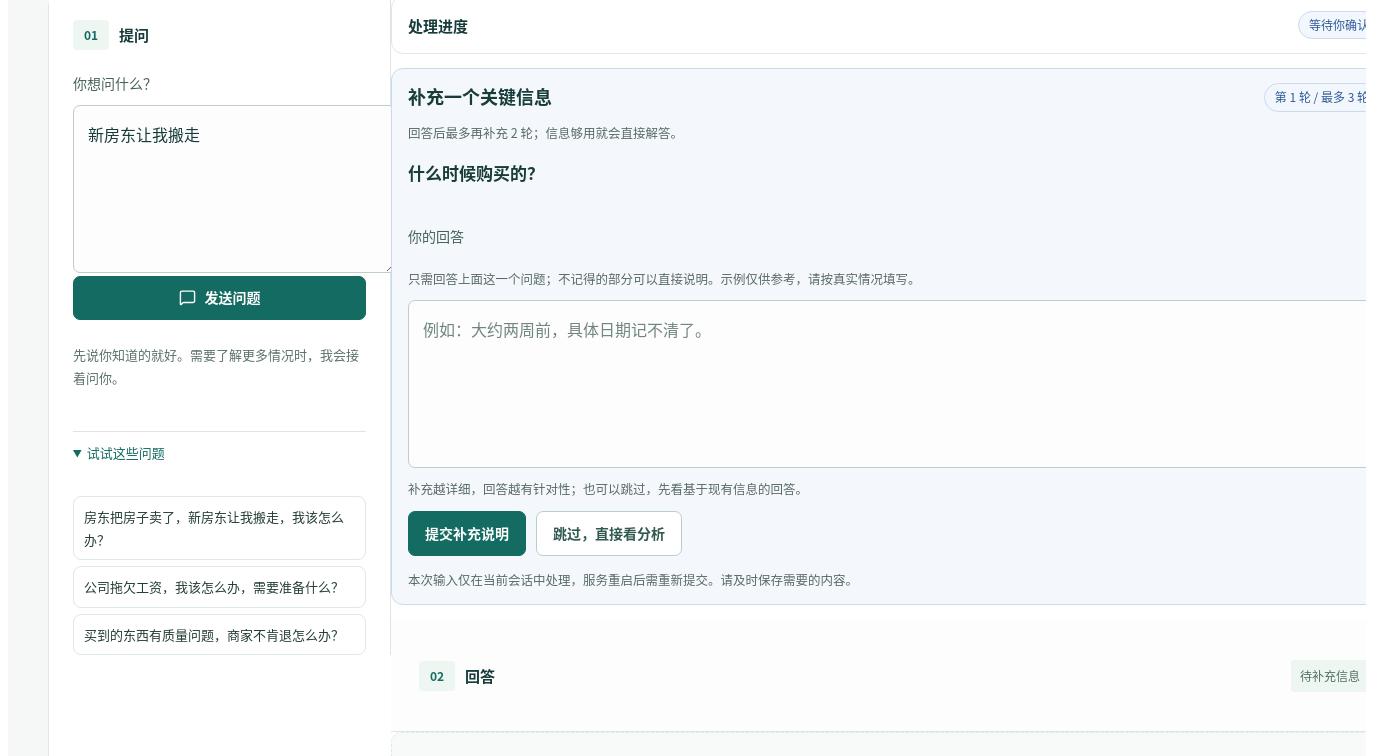
Test: 逐轮补充与快速回答 › 只显示当前关键问题，补充后从新快照决定下一问
(page scrolled)
Expected: the text "什么时候购买的？" is shown, [408,160,544,185]
Expected: the text "回答后最多再补充 2 轮；信息够用就会直接解答。" is shown, [408,123,683,142]
Type "两周前" into the text box labelled "你的回答". click: (887, 384)
box: [408,300,1366,468]
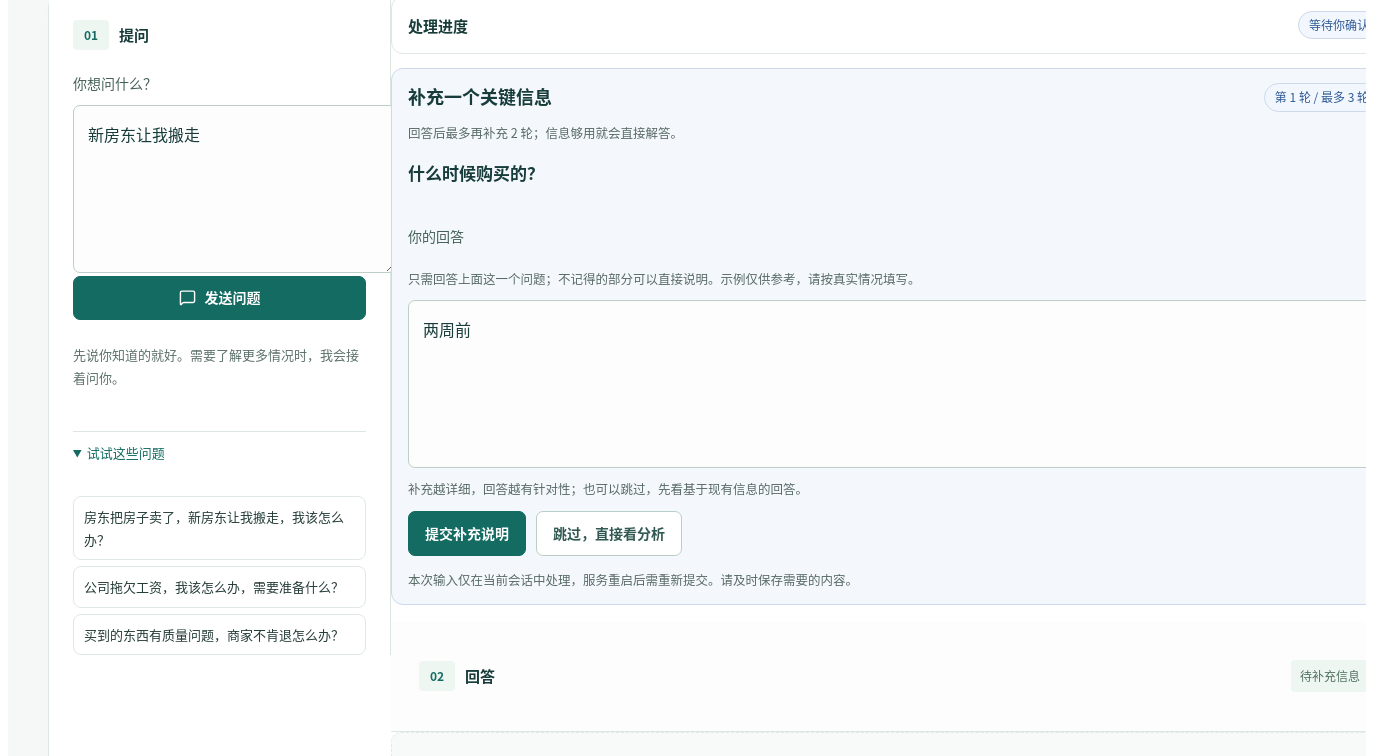
Click the button "提交补充说明". click: (467, 533)
box: [408,511,526,556]
Wait 2500 ms
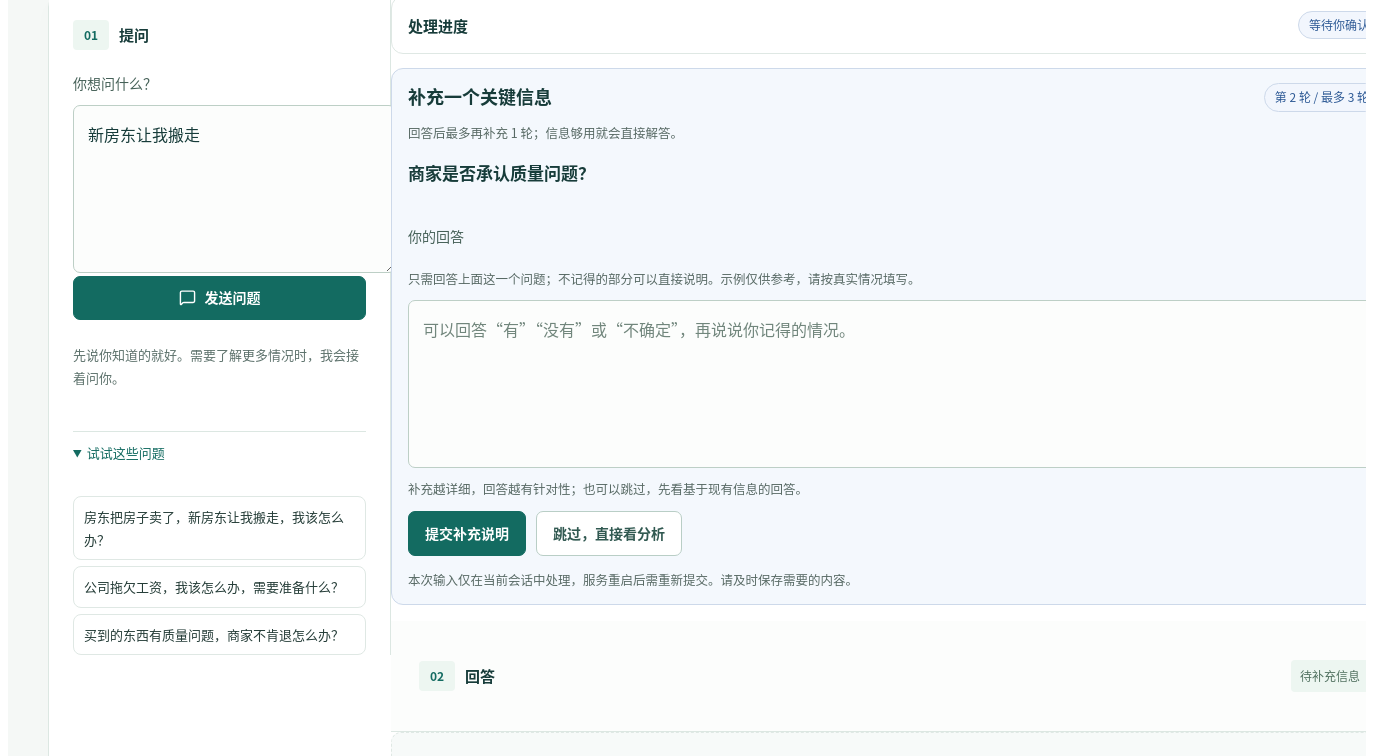
Expected: the text "商家是否承认质量问题？" is shown, [408,160,595,185]
Expected: the text "什么时候购买的？" is gone
Expected: the text "回答后最多再补充 1 轮；信息够用就会直接解答。" is shown, [408,123,683,142]
